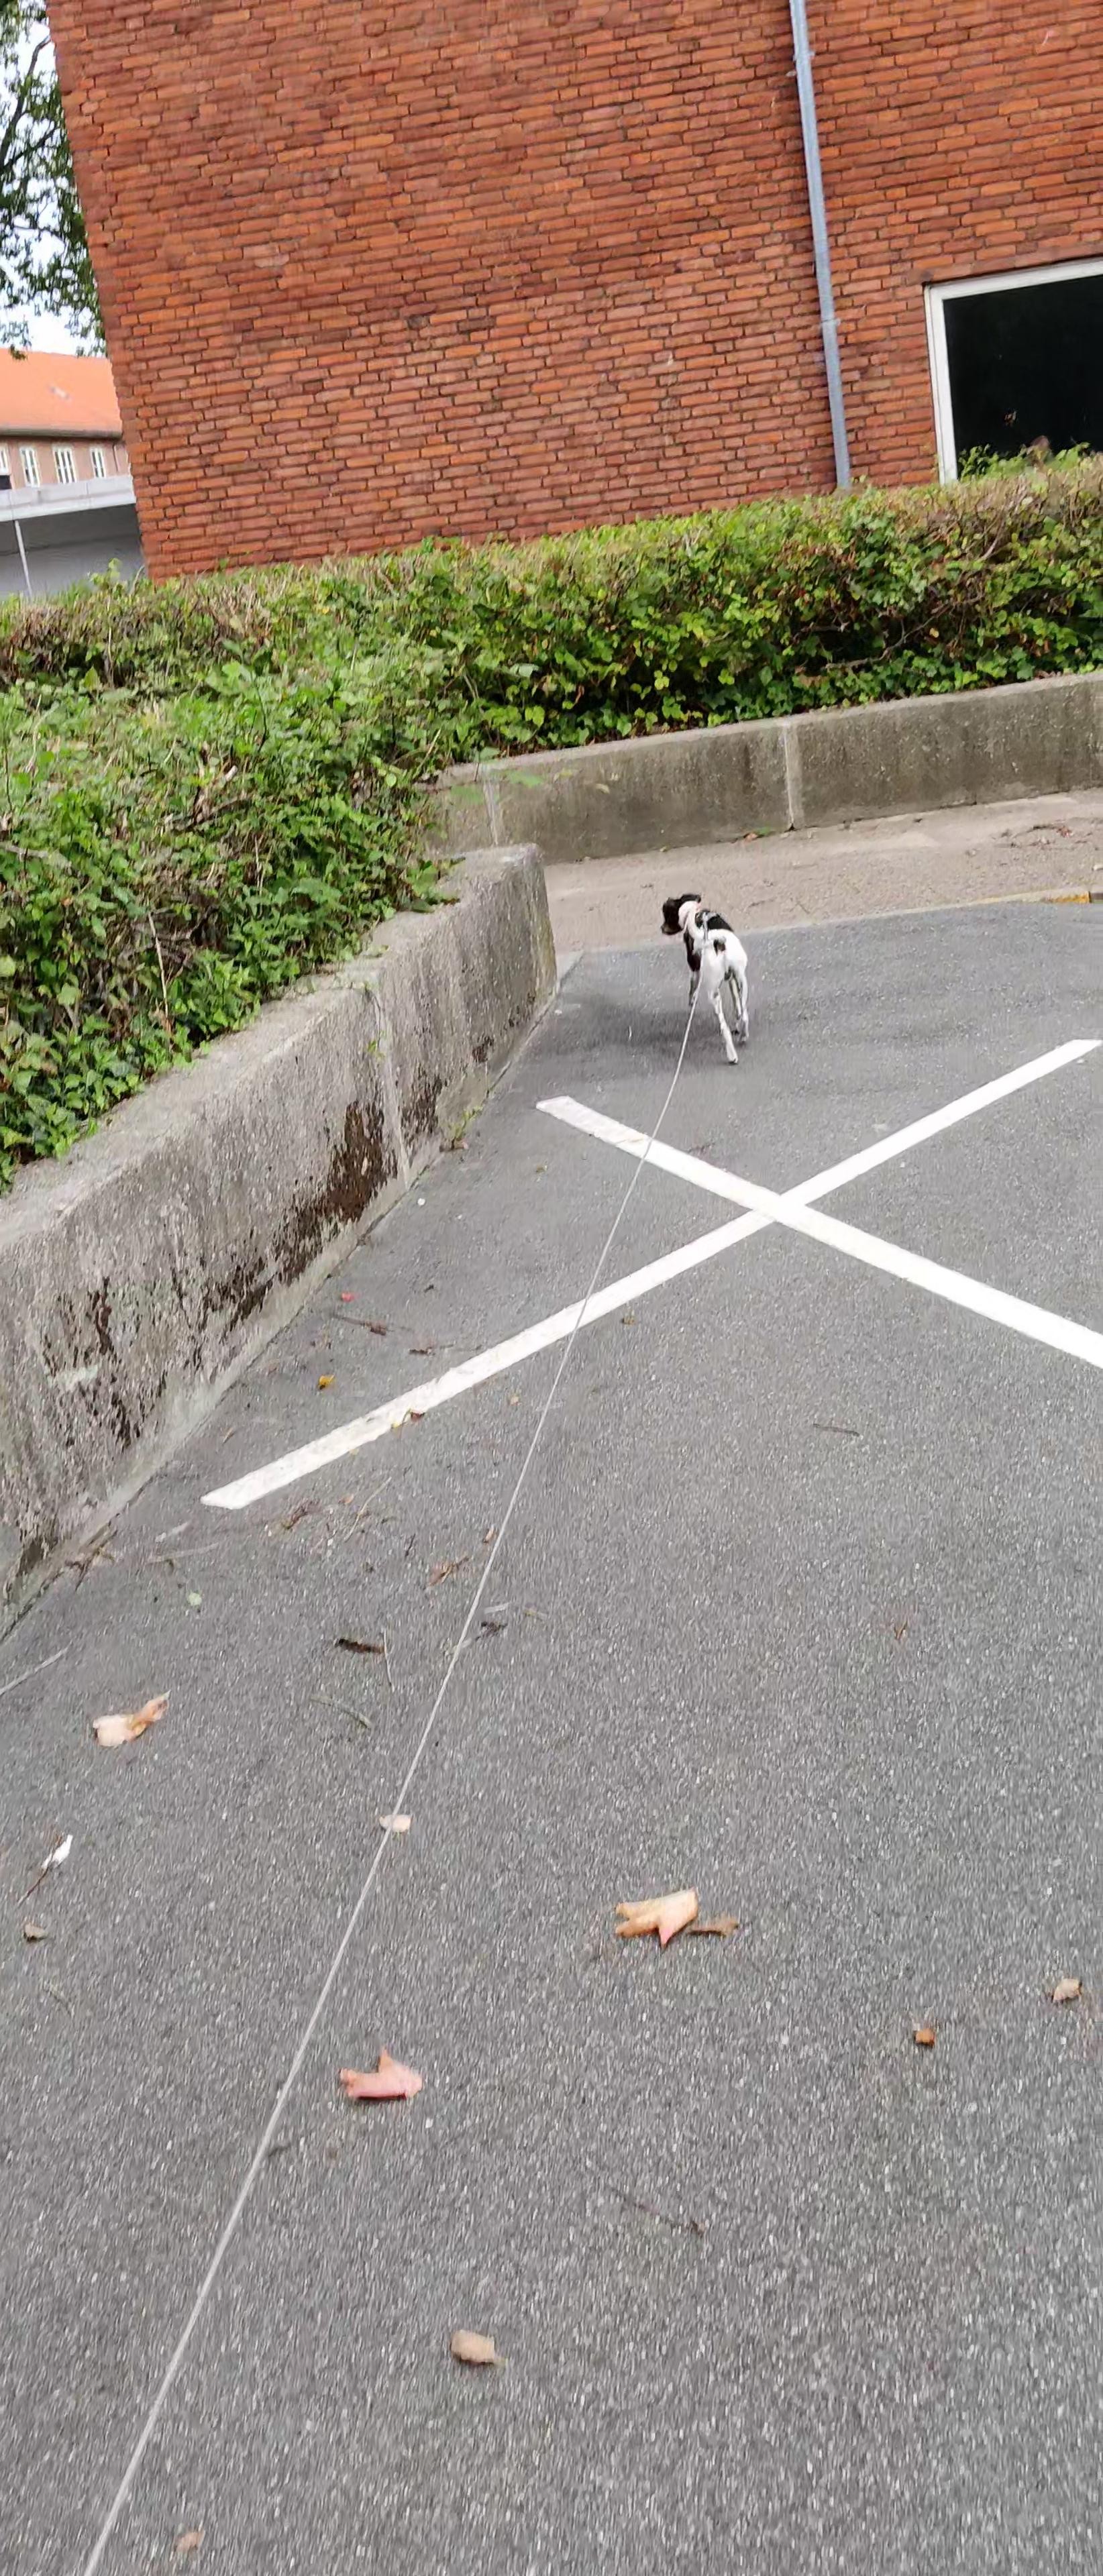Dog: (656, 892, 756, 1066)
